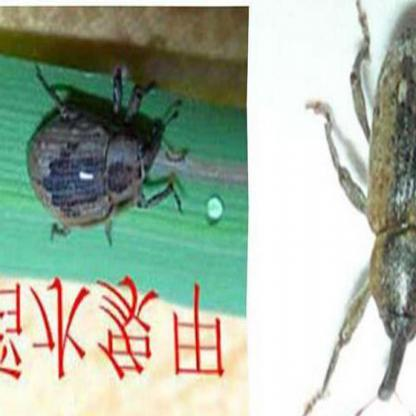rice-bug: (309, 2, 416, 416), (26, 63, 178, 244)
